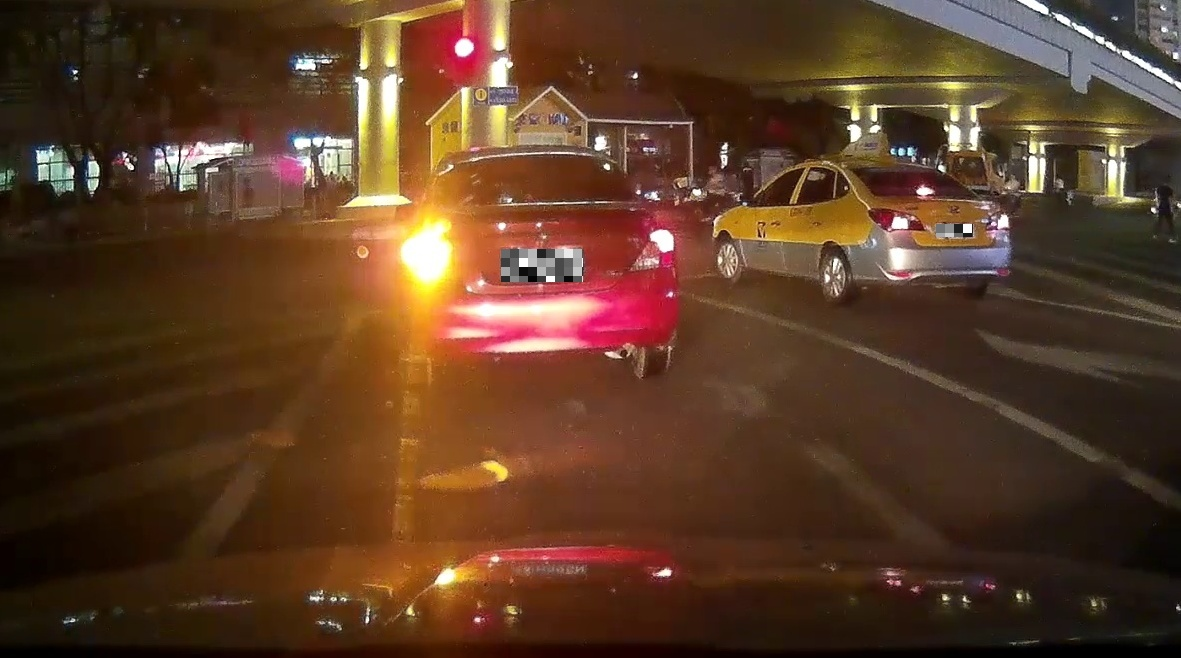L_light: (418, 237, 461, 279), (866, 208, 925, 232)
R_light: (631, 230, 673, 270), (986, 210, 1009, 231)
T_light: (517, 156, 552, 162), (916, 188, 936, 194)
night-brake: (841, 162, 1011, 303)
night-left: (415, 149, 676, 377)
plate_1: (501, 249, 583, 282)
plate_2: (936, 224, 973, 237)
